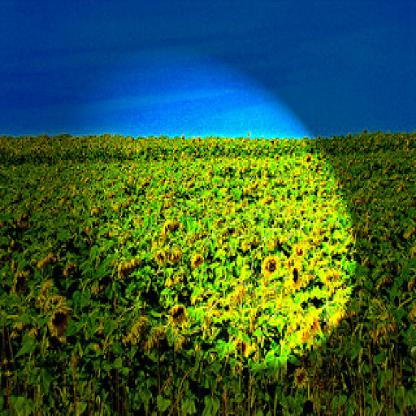SUN FLOWER: (11, 142, 352, 400)
